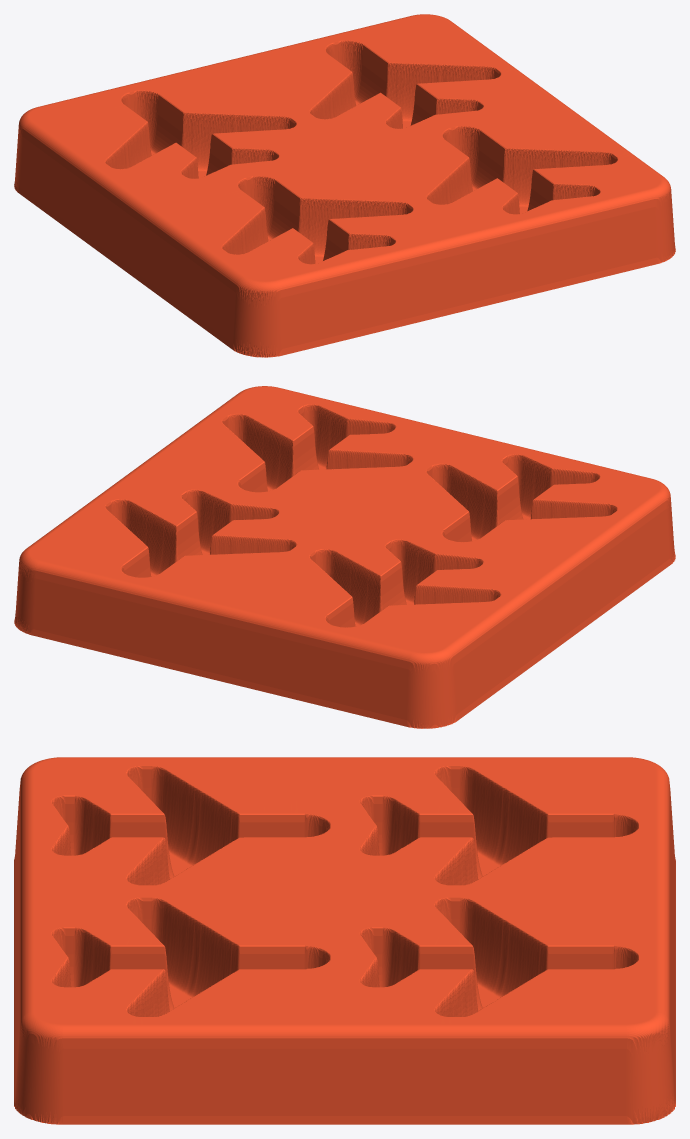
File: mold.glb
3 renders of one model, top to bottom at view 1: azimuth 30°, elevation 25°; view 2: azimuth 150°, elevation 25°; view 3: azimuth 270°, elevation 25°, orthographic. The views are drawn at different scales.
Visible parts, largest first — view 1: geometry_0; view 2: geometry_0; view 3: geometry_0.
Part boxes in pixels (box(x1,y1,x2,y2)): geometry_0: box(14, 14, 675, 357); geometry_0: box(14, 386, 675, 728); geometry_0: box(14, 757, 675, 1124).
Size of the model in its own units: 0.1218 by 0.0185 by 0.1206.
